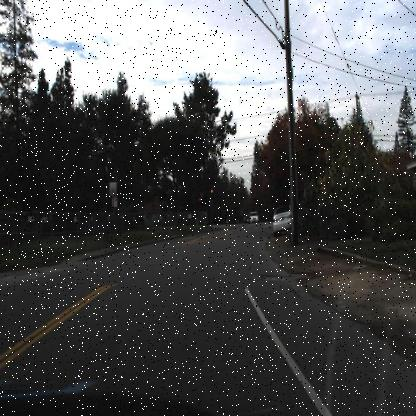car: (270, 200, 300, 240), (247, 206, 262, 230)
trafficLight-Red: (208, 184, 214, 200)
